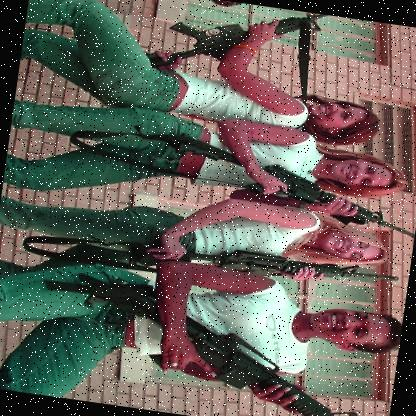rifle: (80, 277, 398, 416), (129, 124, 416, 245), (140, 0, 353, 98), (130, 232, 402, 303)
